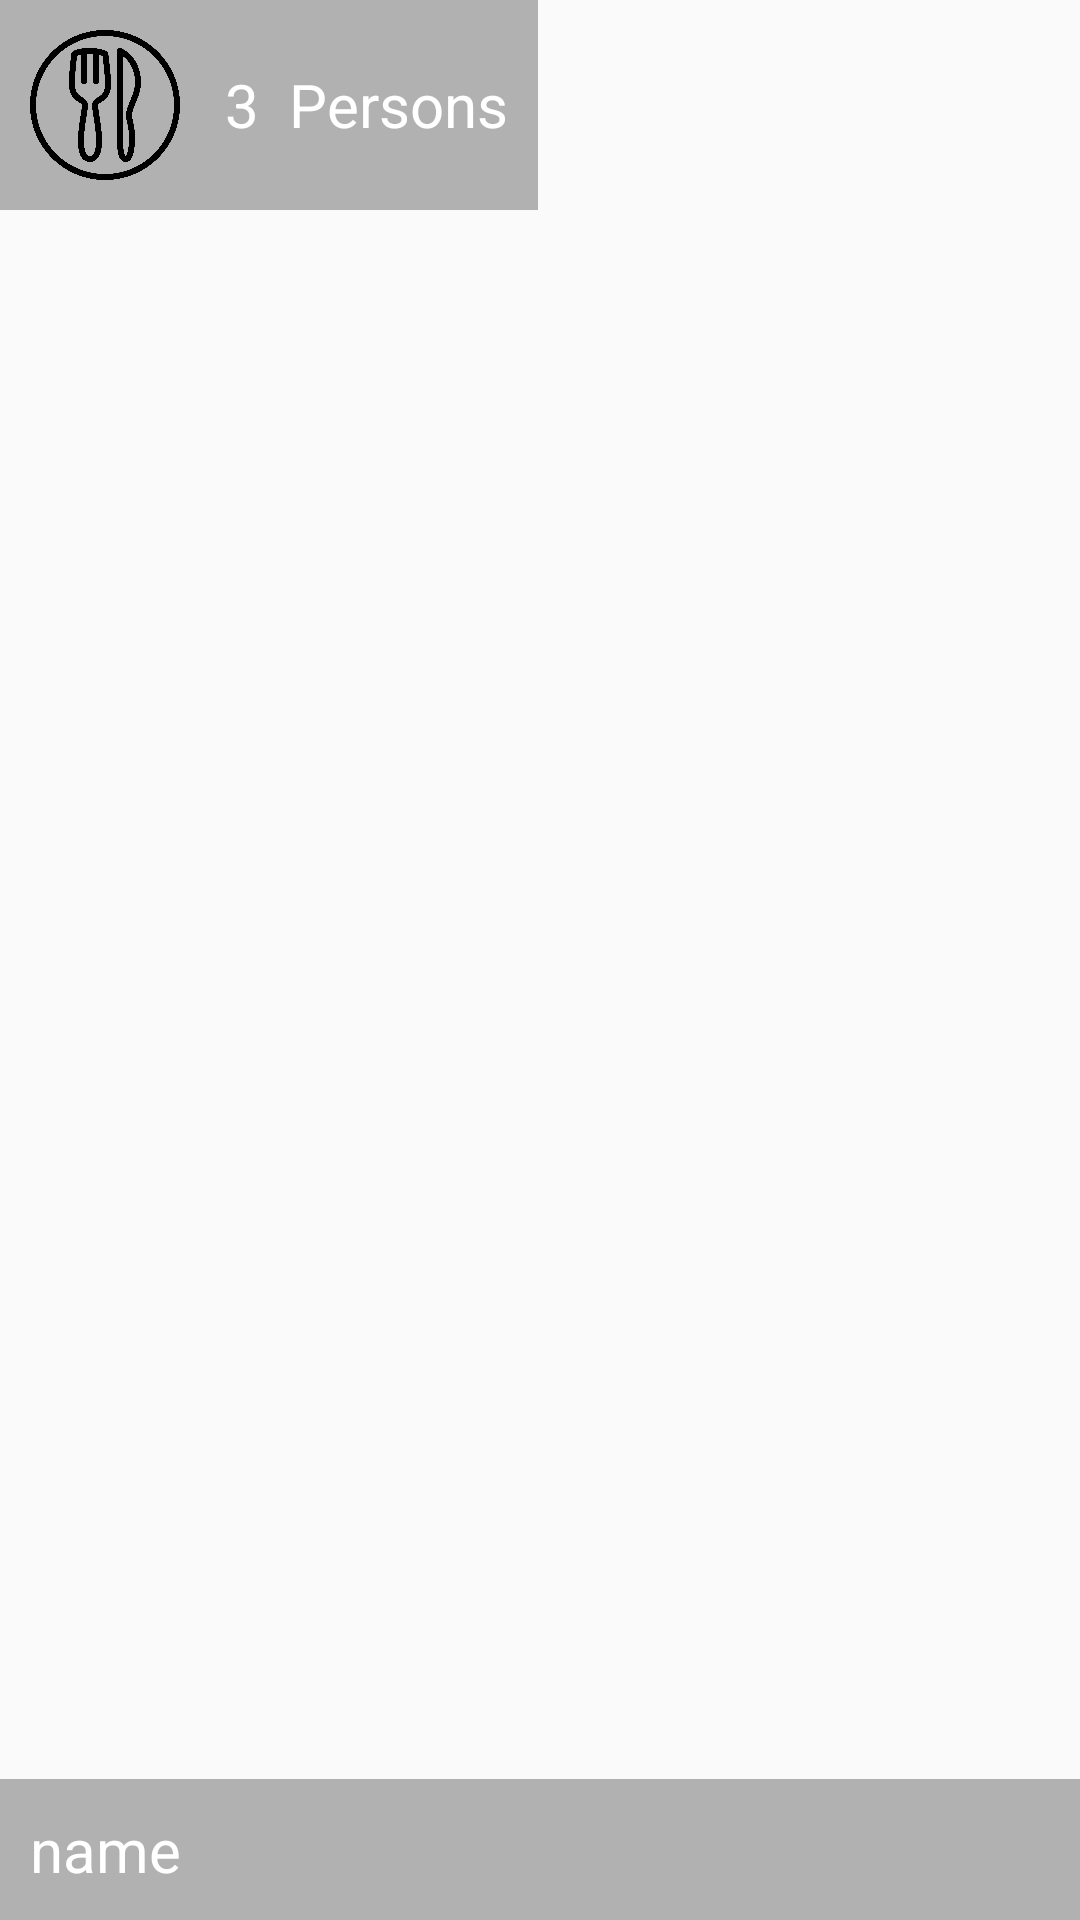

Icons on this 1080*1920 Android screen, each with its box as rect(x1, y1, x2, y2):
eat: rect(30, 30, 180, 180)
